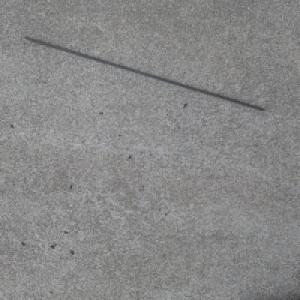LuggagePart: (22, 36, 265, 111)
